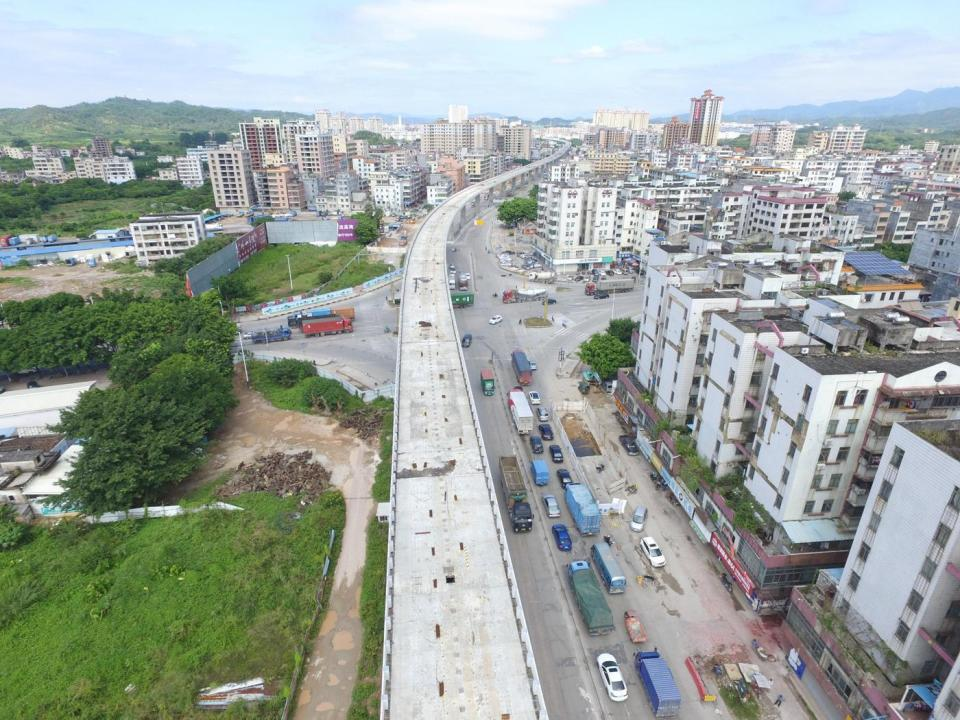bus: (590, 543, 626, 593), (457, 274, 468, 291)
car: (596, 654, 627, 702), (640, 536, 666, 568), (552, 524, 571, 550), (631, 505, 648, 532), (542, 494, 559, 517), (556, 469, 573, 488), (549, 444, 563, 463), (538, 424, 554, 440), (530, 436, 542, 453), (535, 407, 548, 421), (528, 391, 540, 404), (461, 334, 472, 348), (490, 315, 503, 324), (244, 332, 258, 340), (595, 292, 608, 300), (542, 299, 556, 306), (528, 360, 536, 369), (598, 270, 606, 276), (613, 269, 621, 275), (592, 269, 598, 276), (606, 270, 613, 276), (592, 276, 599, 282), (566, 275, 574, 280), (576, 276, 584, 280)
truck: (566, 562, 613, 636), (634, 648, 681, 717), (498, 455, 534, 532), (566, 482, 600, 534), (287, 305, 357, 327), (507, 388, 533, 433), (302, 316, 352, 336), (298, 313, 349, 332), (584, 278, 634, 295), (427, 292, 473, 309), (503, 287, 548, 303), (511, 350, 532, 383), (251, 326, 291, 343), (530, 460, 549, 486), (618, 435, 638, 455), (481, 369, 495, 396), (202, 223, 223, 230), (398, 235, 408, 246), (48, 234, 58, 243), (65, 258, 76, 266), (448, 275, 454, 289), (88, 258, 96, 266), (236, 210, 244, 218), (26, 238, 34, 245), (245, 211, 253, 218)
van: (602, 380, 614, 393), (626, 266, 634, 274), (622, 269, 629, 275), (585, 276, 590, 281)
